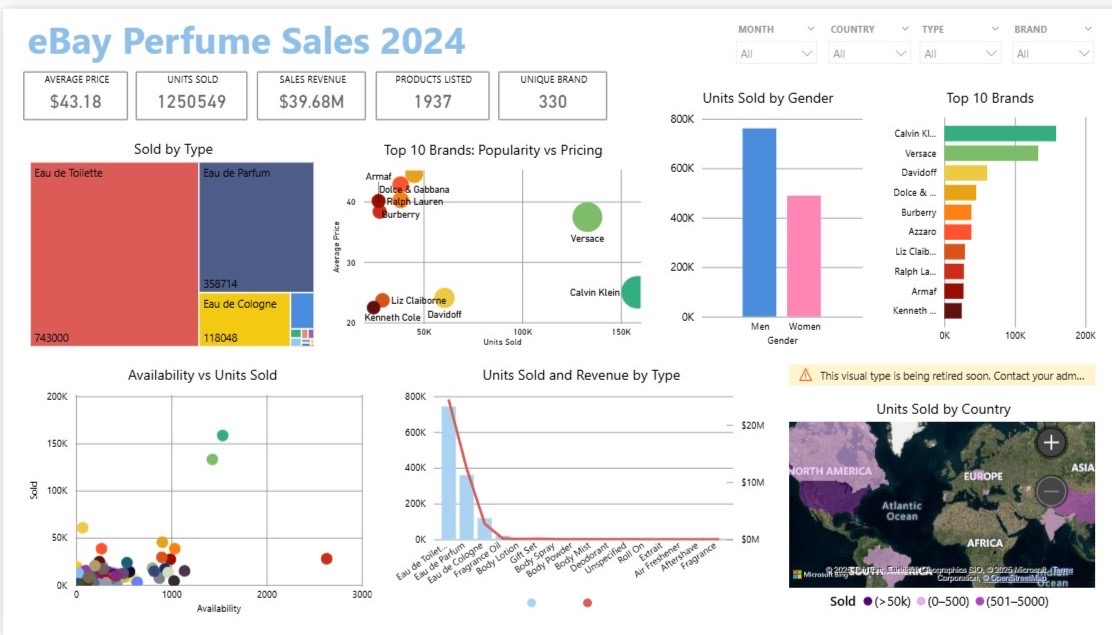

What the dashboard file says about the page in this screenshot:
{"tool":"powerbi","page":{"name":"eBay Perfume Sales 2024 Dashboard","canvas":[1280,720],"ordinal":0},"visuals":[{"type":"textbox","box":[22.9,0,1257.1,67.1],"z":0},{"type":"card","title":"TOTAL UNITS SOLD","fields":{"Values":["Sum(Clean.Sold)"]},"box":[172.9,71.4,140,55.7],"z":1000},{"type":"card","title":"AVERAGE SELLING PRICE","fields":{"Values":["Avg(Clean.Price_USD)"]},"box":[22.9,71.4,140,55.7],"z":2000},{"type":"card","title":"TOTAL LISTING","fields":{"Values":["Count(Clean.Title)"]},"box":[471.4,71.4,140,55.7],"z":3000},{"type":"card","title":"TOTAL REVENUE","fields":{"Values":["Clean.Revenue"]},"box":[321.4,71.4,140,55.7],"z":4000},{"type":"clusteredColumnChart","title":"Units Sold by Gender","fields":{"Category":["Clean.Gender"],"Y":["Sum(Clean.Sold)"]},"box":[777.1,88.6,218.6,305.7],"z":5000},{"type":"treemap","title":"Units Sold by Type","fields":{"Group":["Clean.Type"],"Values":["Sum(Clean.Sold)"]},"box":[22.9,145.7,368.6,247.1],"z":6000},{"type":"clusteredBarChart","title":"Top 10 Brands by Units Sold","fields":{"Category":["Clean.Brand"],"Y":["Sum(Clean.Sold)"]},"box":[1005.7,87.1,250,307.1],"z":7000},{"type":"scatterChart","title":"Top 10 Brands: Units Sold vs Average Price","fields":{"X":["Sum(Clean.Sold)"],"Size":["Sum(Clean.Sold)"],"Y":["Avg(Clean.Price_USD)"],"Series":["Clean.Brand_Fix"]},"box":[391.4,145.7,385.7,247.1],"z":8000},{"type":"slicer","fields":{"Values":["Clean.ItemLocation_Country"]},"box":[932.5,11.2,115,60],"z":9000},{"type":"filledMap","title":"Units Sold by Country","fields":{"Category":["Clean.ItemLocation_Country"],"Series":["Clean.Sales Group"]},"box":[890.4,394.5,365.6,305.2],"z":10000},{"type":"scatterChart","title":"Availability vs Units Sold","fields":{"X":["Sum(Clean.Available)"],"Y":["Sum(Clean.Sold)"],"Series":["Clean.Brand_Fix"]},"box":[22.9,404.3,407.1,295.7],"z":11000},{"type":"slicer","fields":{"Values":["Clean.MonthName"]},"box":[827.5,11.7,113.3,60],"z":12000},{"type":"slicer","fields":{"Values":["Clean.Type"]},"box":[1037.5,11.2,113.8,60],"z":13000},{"type":"slicer","fields":{"Values":["Clean.Brand"]},"box":[1142.9,11.4,114.3,60],"z":14000},{"type":"lineClusteredColumnComboChart","title":"Units Sold and Revenue by Type","fields":{"Category":["Clean.Type"],"Y":["Sum(Clean.Sold)"],"Y2":["Clean.Revenue"]},"box":[440,404.3,438.6,295.7],"z":15000},{"type":"card","title":"NUMBER OF  BRANDS","fields":{"Values":["Count(Clean.Brand_Fix)"]},"box":[621.4,71.4,140,55.7],"z":16000}]}

Visuals, with their boxes in screenshot pixels (x1, y1, x2, y2), scaled from the page's 1280x720 canvas onto the 1112x635 screenshot:
textbox: (20,0,1111,59)
"TOTAL UNITS SOLD" card: (150,63,272,112)
"AVERAGE SELLING PRICE" card: (20,63,142,112)
"TOTAL LISTING" card: (410,63,531,112)
"TOTAL REVENUE" card: (279,63,401,112)
"Units Sold by Gender" clusteredColumnChart: (675,78,865,348)
"Units Sold by Type" treemap: (20,128,340,346)
"Top 10 Brands by Units Sold" clusteredBarChart: (874,77,1091,348)
"Top 10 Brands: Units Sold vs Average Price" scatterChart: (340,128,675,346)
slicer - Clean.ItemLocation_Country: (810,10,910,63)
"Units Sold by Country" filledMap: (774,348,1091,617)
"Availability vs Units Sold" scatterChart: (20,357,374,617)
slicer - Clean.MonthName: (719,10,817,63)
slicer - Clean.Type: (901,10,1000,63)
slicer - Clean.Brand: (993,10,1092,63)
"Units Sold and Revenue by Type" lineClusteredColumnComboChart: (382,357,763,617)
"NUMBER OF  BRANDS" card: (540,63,661,112)
